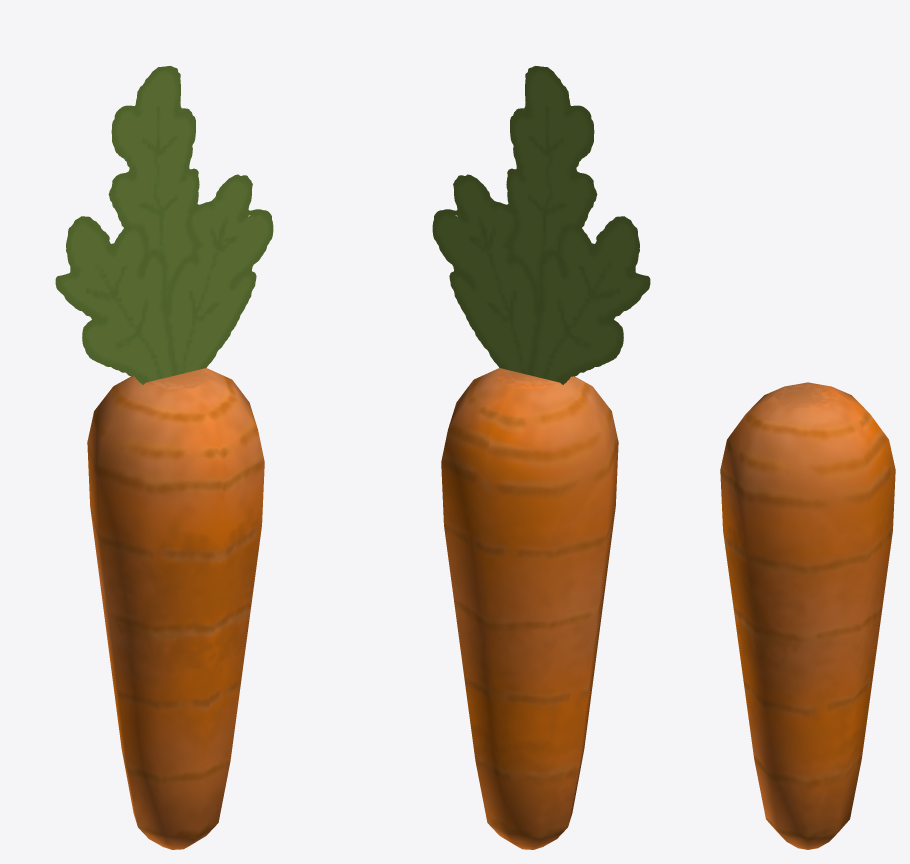
File: Carrot.fbx
The picture shows the model from 3 angles, left to right: view 1: azimuth 30°, elevation 25°; view 2: azimuth 150°, elevation 25°; view 3: azimuth 270°, elevation 25°; orthographic projection. The views are drawn at different scales.
Visible parts, largest first — view 1: Carrot; view 2: Carrot; view 3: Carrot.
Boxes of the visible parts, box(x1,y1,x2,y2) form: Carrot: box(55, 66, 273, 849); Carrot: box(432, 66, 650, 849); Carrot: box(720, 382, 895, 849).
Bounding box in the file's own units: 50.06 × 117 × 24.54.
